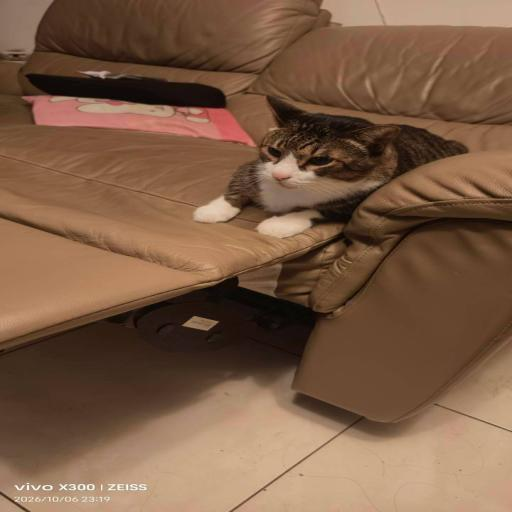cat: (226, 107, 408, 238)
